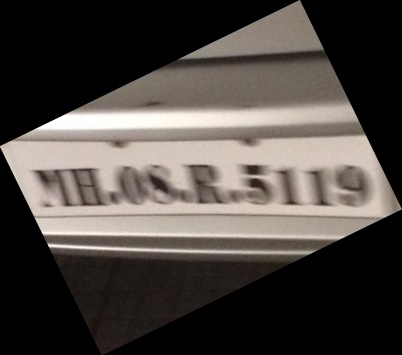character: (334, 162, 372, 209), (30, 168, 71, 208), (185, 162, 223, 205), (67, 167, 106, 207), (303, 167, 336, 208), (241, 163, 272, 206), (145, 163, 176, 205), (272, 164, 302, 206), (118, 165, 146, 206)
